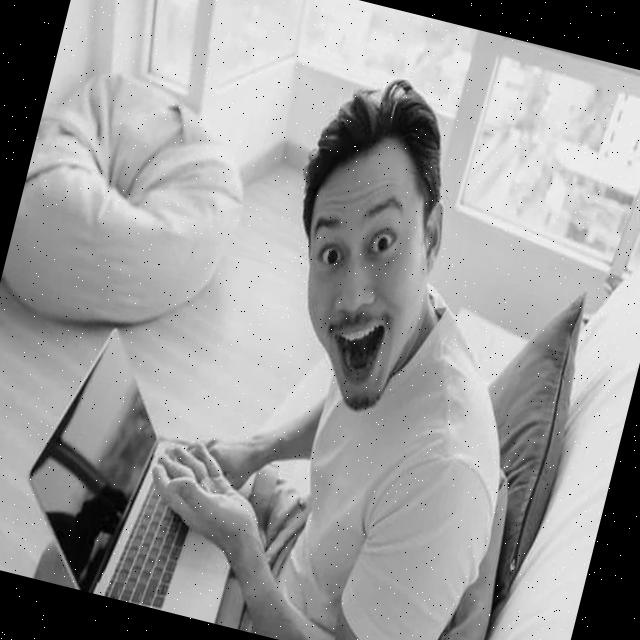Surprised: (266, 126, 460, 420)
